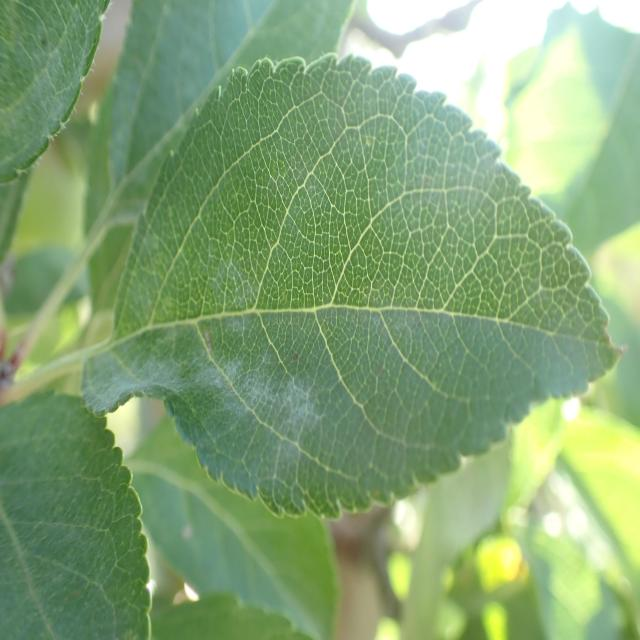Powdery_mildew: (106, 91, 580, 528)
